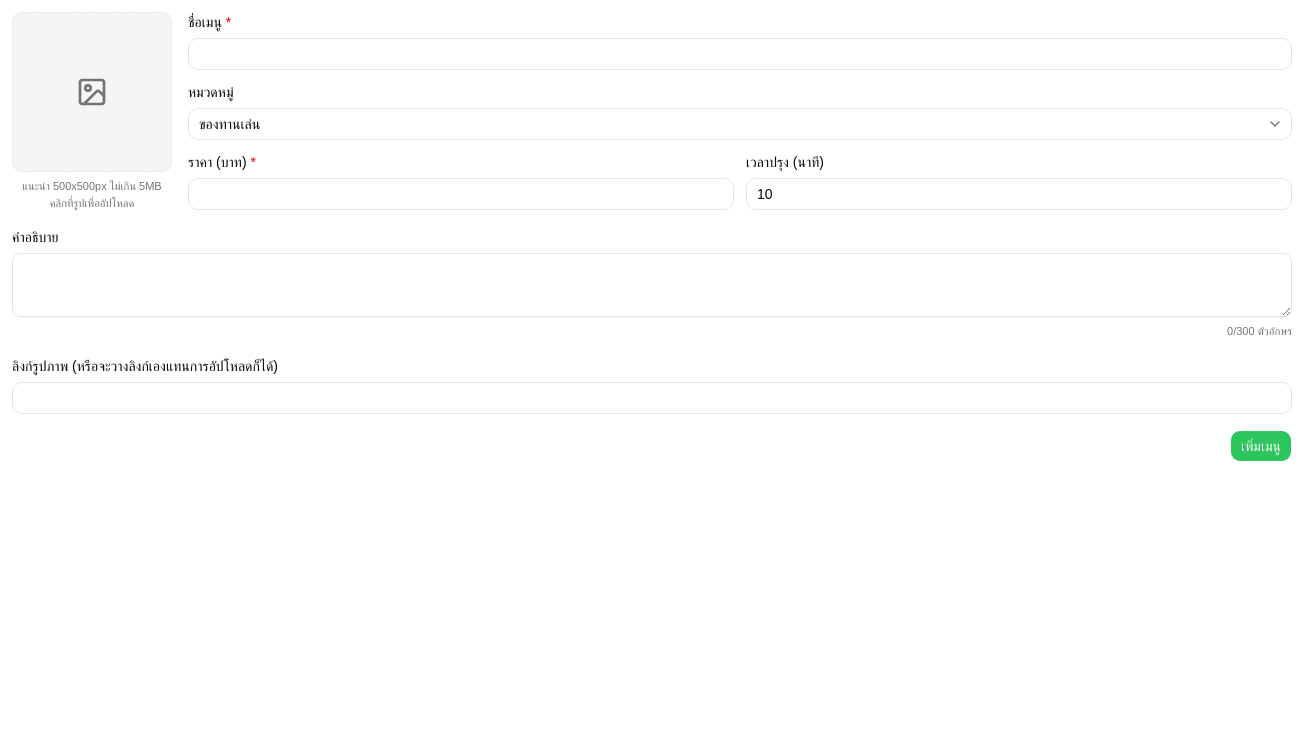
Test: MenuForm › shows a validation error and does not submit when the name is empty
Click the button "เพิ่มเมนู" at coordinates (1261, 446), box [1230,430,1292,462]
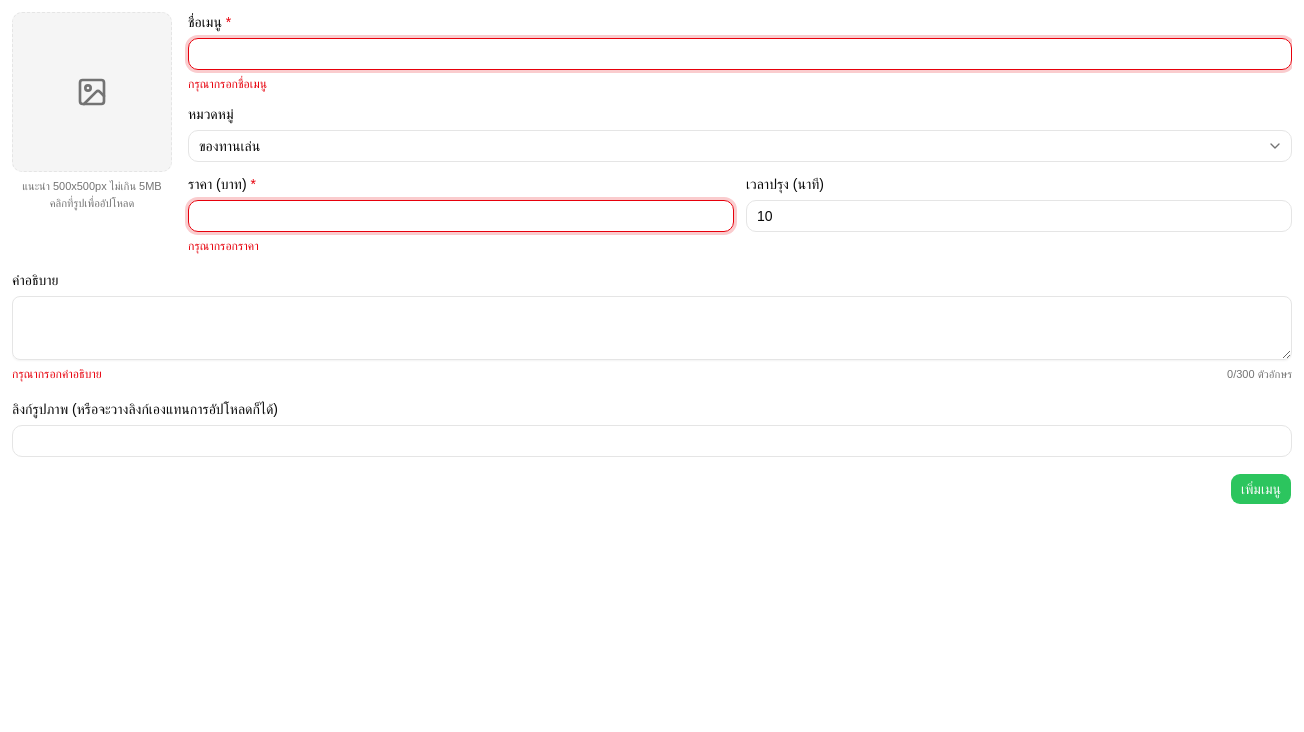
Check: the text "กรุณากรอกชื่อเมนู" is shown, box [188,77,267,91]
